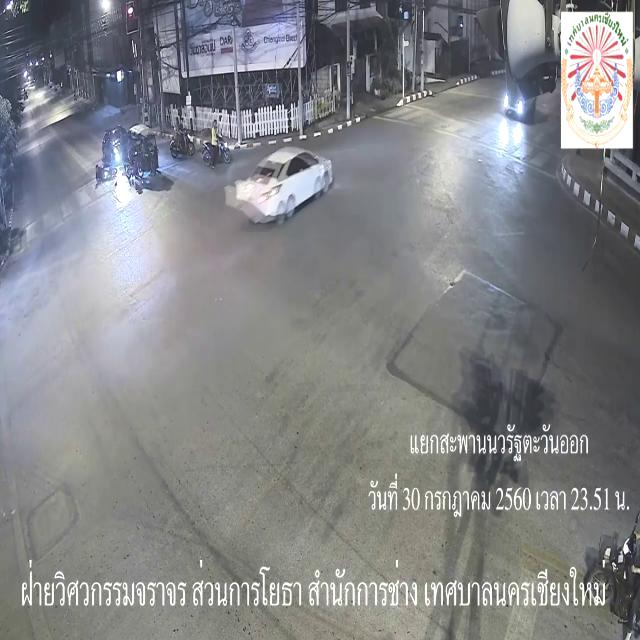accident: (89, 124, 168, 196)
non-accident: (168, 118, 234, 168)
